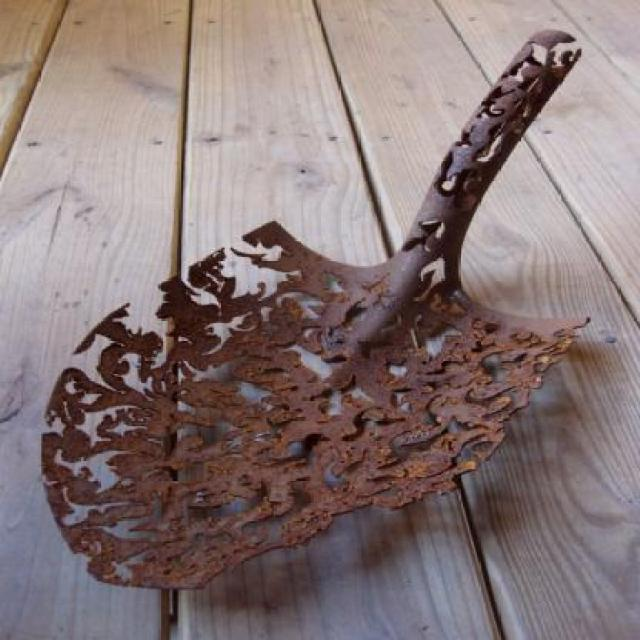corrosion: (32, 25, 600, 593)
